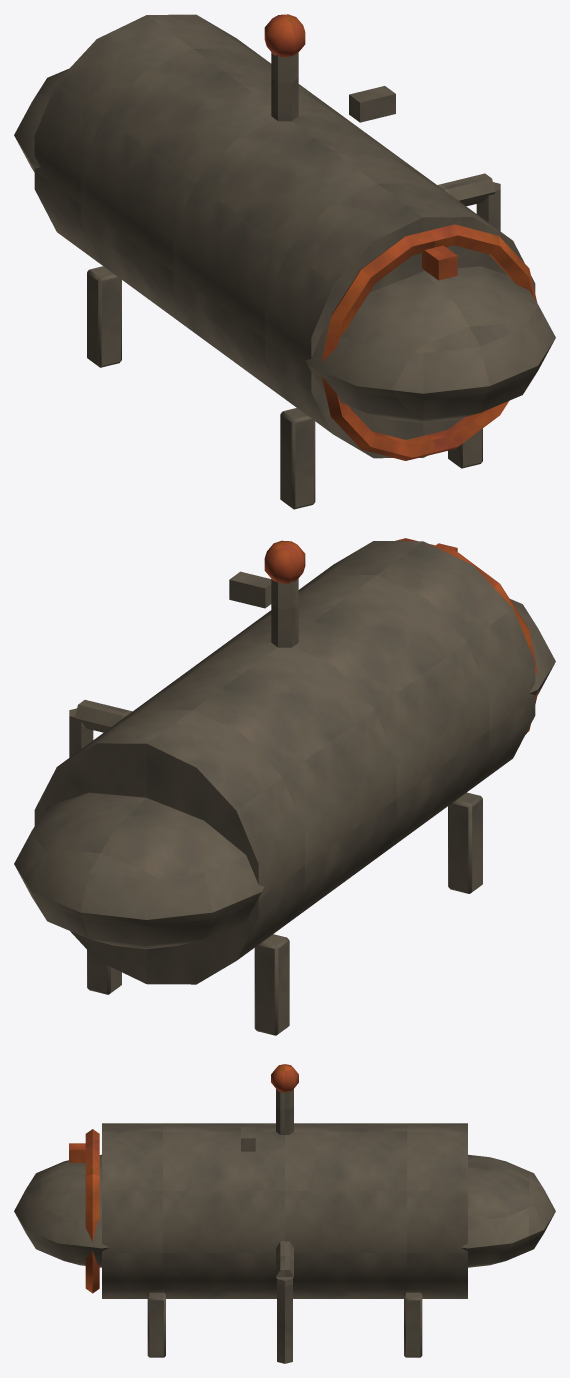
Rendered from prop_cannery_retort.glb.
3 renders of one model, top to bottom at view 1: azimuth 30°, elevation 25°; view 2: azimuth 150°, elevation 25°; view 3: azimuth 270°, elevation 25°, orthographic. The views are drawn at different scales.
Parts seen in each view (by area): view 1: Body, Rust; view 2: Body, Rust; view 3: Body, Rust.
Part boxes in pixels (bbox=[...]): Body: bbox=[14, 14, 555, 509]; Rust: bbox=[264, 14, 537, 460]; Body: bbox=[14, 541, 555, 1035]; Rust: bbox=[264, 538, 538, 734]; Body: bbox=[14, 1089, 555, 1363]; Rust: bbox=[69, 1064, 298, 1293].
Bounding box in the file's own units: 1.38 × 1.58 × 2.96.
Materials: 2 (2 with a texture image).
